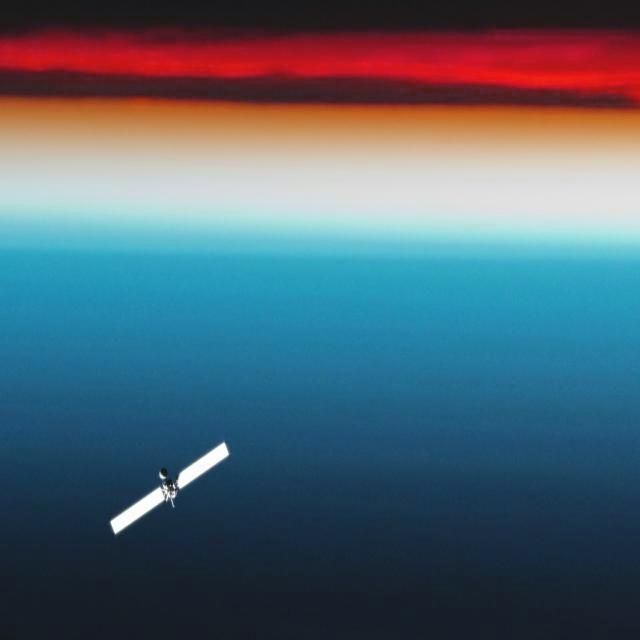medium_debris: (98, 434, 234, 538)
